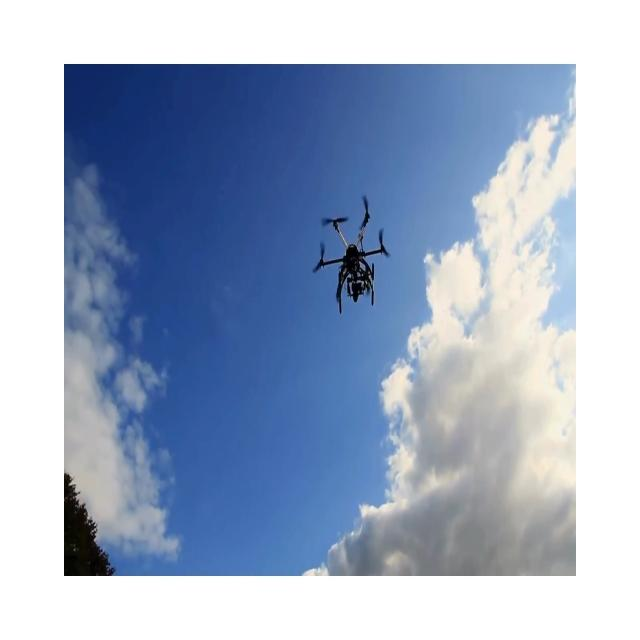drone: (312, 194, 390, 314)
